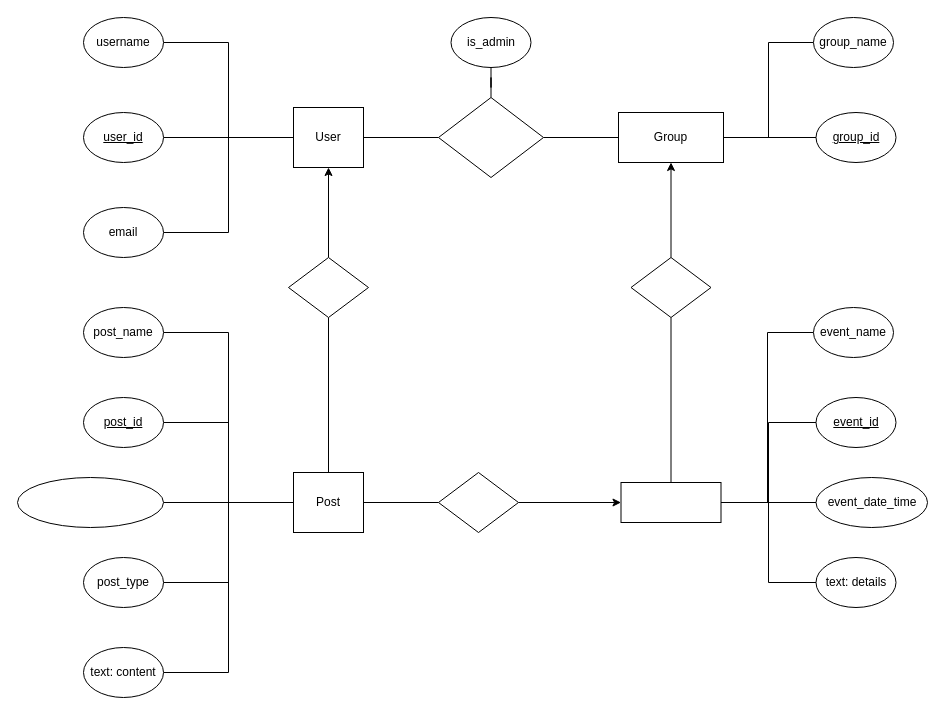
This 945x715 diagram has some shape labels left out. The centre of each missing label's shape, as x and y in pixels:
advertises: the point at 478,502
date_time_posted: the point at 90,502
Event: the point at 670,502
follows: the point at 491,137
hosts: the point at 670,287
uploads: the point at 328,287
